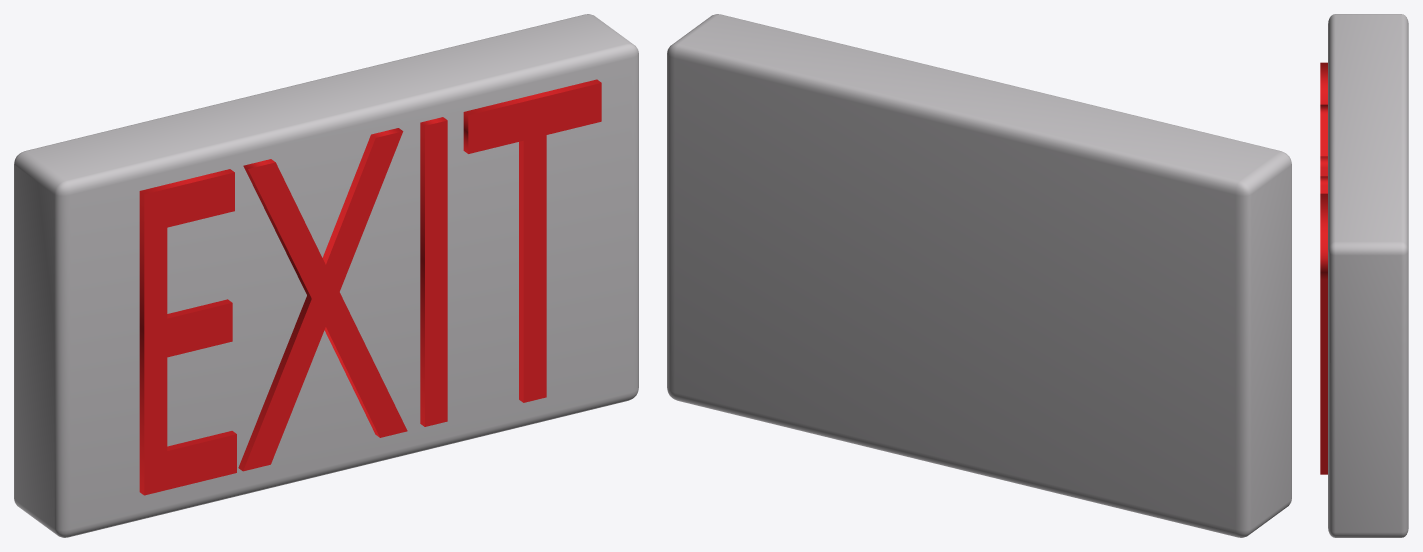
3 views of the same model, side by side, from view 1: azimuth 30°, elevation 25°; view 2: azimuth 150°, elevation 25°; view 3: azimuth 270°, elevation 25° (orthographic). The views are drawn at different scales.
Visible parts, largest first — view 1: Exit sign; view 2: Exit sign; view 3: Exit sign.
Boxes of the visible parts, box(x1,y1,x2,y2) form: Exit sign: box(14, 14, 638, 537); Exit sign: box(667, 14, 1291, 537); Exit sign: box(1320, 14, 1408, 537).
Bounding box in the file's own units: 0.8941 × 0.5222 × 0.1417.
